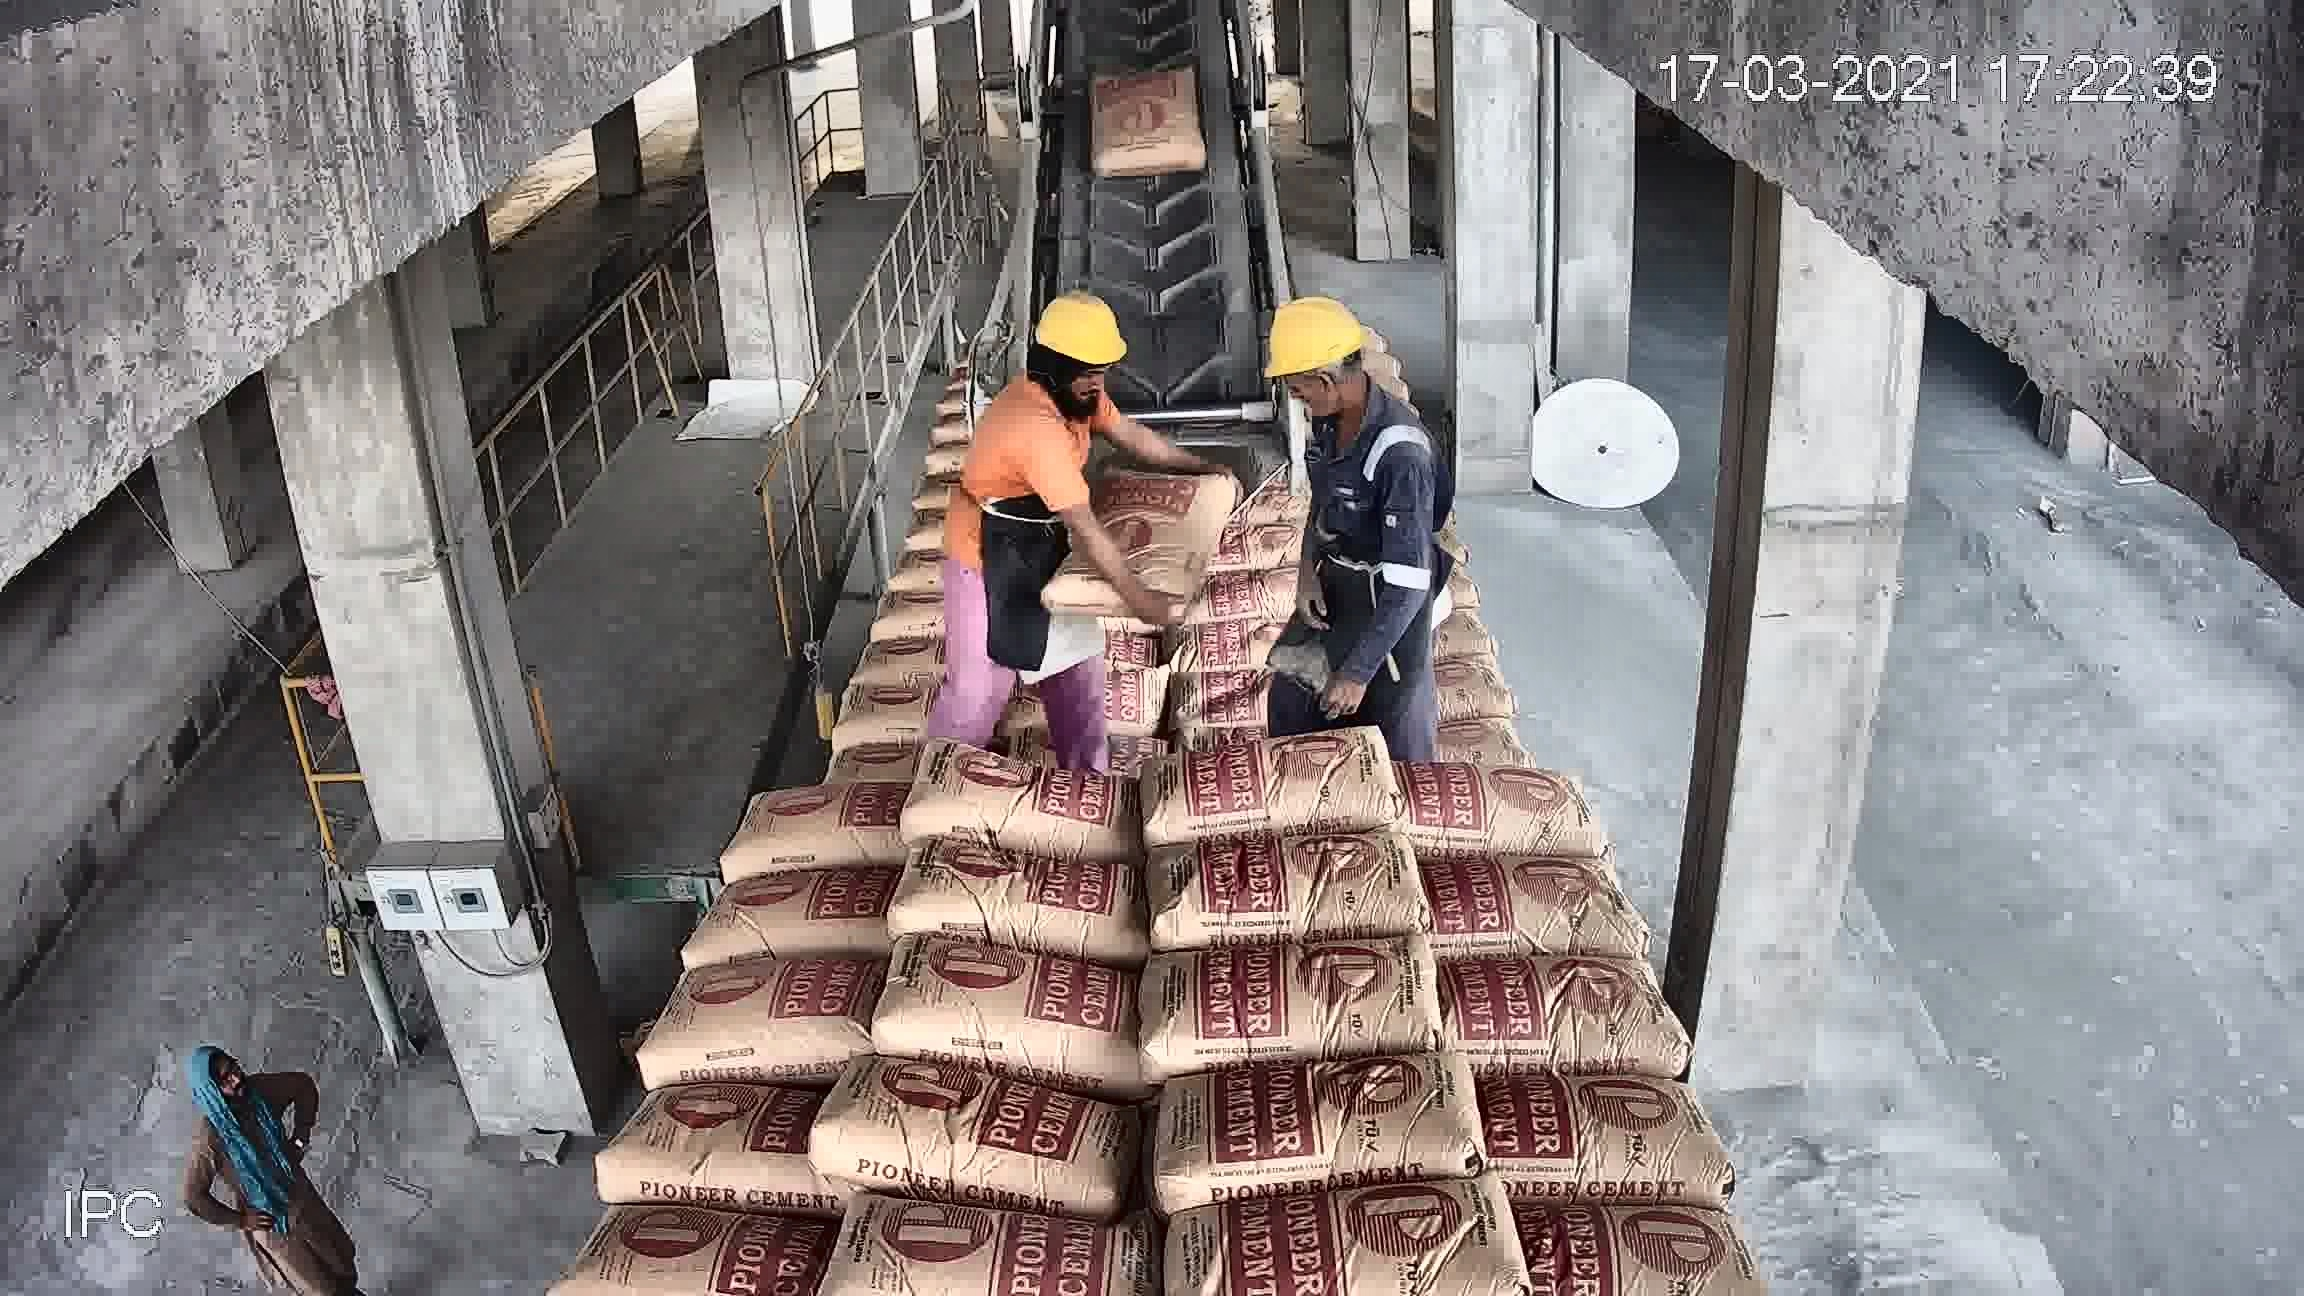bag: (984, 457, 1215, 576), (1086, 90, 1203, 210)
bag_h: (1184, 1032, 1537, 1192), (1154, 1173, 1525, 1296), (1150, 934, 1472, 1063), (840, 951, 1154, 1082), (1128, 824, 1434, 954), (1415, 954, 1696, 1081), (798, 1086, 1131, 1192), (630, 942, 880, 1082), (601, 1074, 858, 1196), (1495, 1074, 1722, 1212), (881, 851, 1157, 964), (1155, 717, 1385, 834), (1429, 847, 1630, 975), (684, 859, 926, 964), (837, 1225, 1184, 1296), (905, 755, 1144, 850), (729, 764, 921, 881), (562, 1199, 843, 1275), (1525, 1214, 1772, 1296), (1161, 636, 1362, 734), (734, 682, 929, 782), (940, 673, 1150, 763), (1415, 767, 1608, 862), (1378, 671, 1556, 771), (1348, 590, 1492, 673), (1347, 513, 1465, 581), (853, 578, 983, 635), (828, 627, 956, 684), (783, 668, 934, 712), (1347, 578, 1478, 622), (896, 538, 976, 589)
belt: (1029, 21, 1285, 438)
